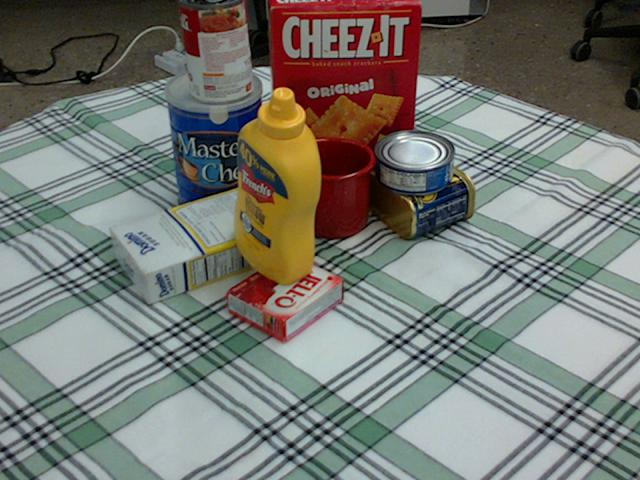cracker_box: (269, 0, 422, 184)
gelatin_box: (227, 252, 344, 341)
master_chef_can: (163, 67, 266, 222)
mug: (289, 135, 376, 237)
mustard_bottle: (233, 86, 320, 284)
potted_meat_can: (360, 143, 473, 235)
sugar_box: (107, 179, 301, 303)
tomato_soup_can: (179, 0, 252, 102)
tuna_fish_can: (373, 131, 454, 194)
